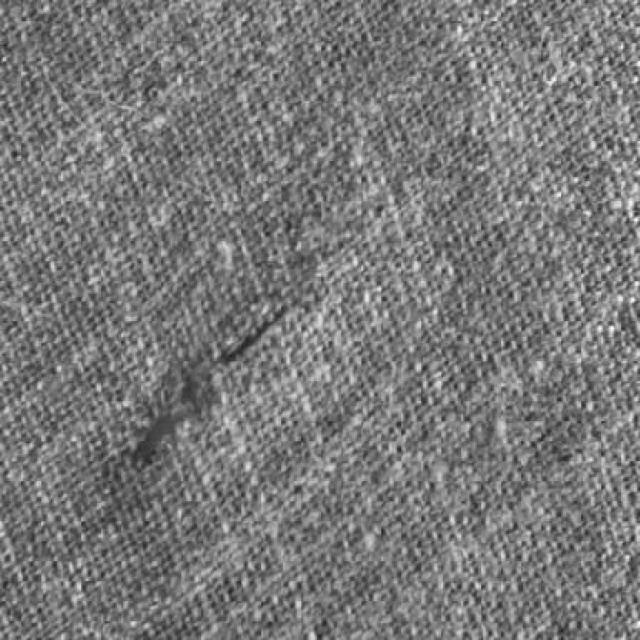other: (50, 221, 336, 531)
